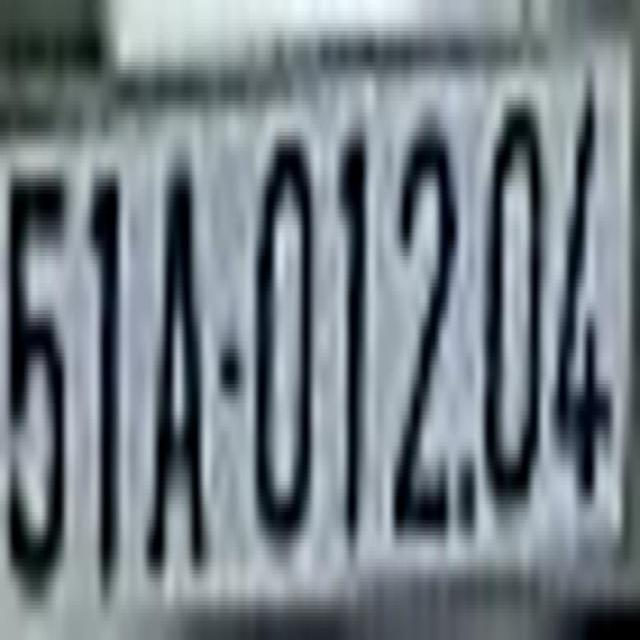0: (251, 120, 316, 566), (484, 93, 546, 520)
1: (85, 147, 126, 617), (338, 135, 370, 562)
2: (390, 86, 452, 566)
4: (550, 74, 616, 512)
5: (8, 148, 74, 590)
A: (144, 163, 208, 574)
